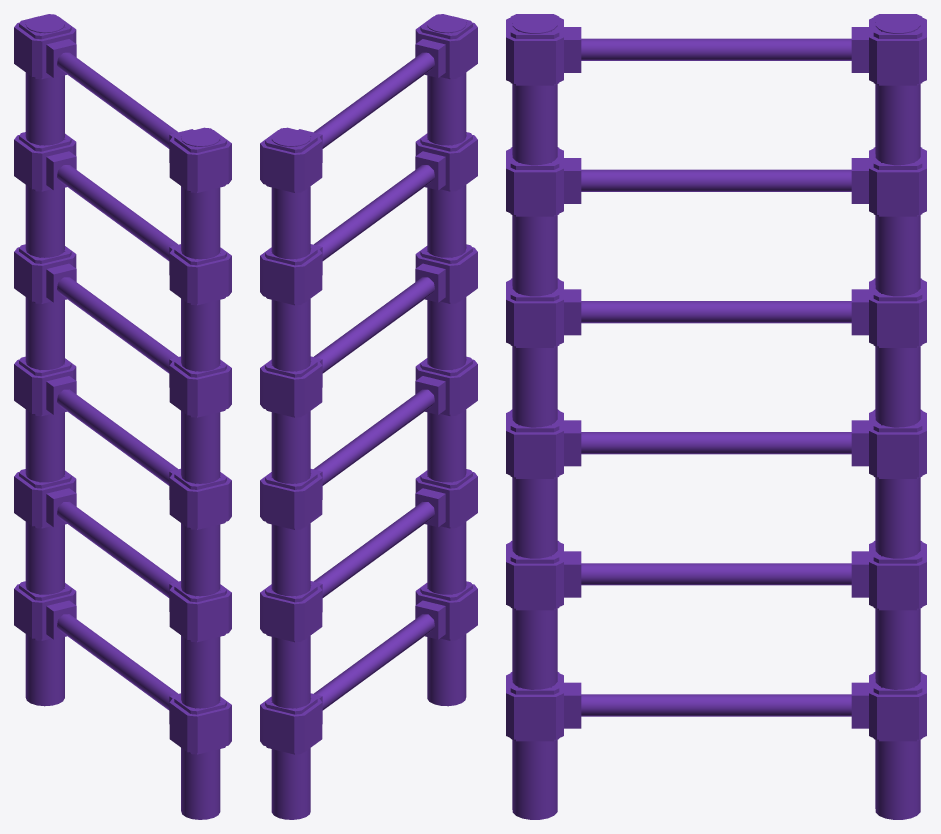
File: Ladder_A_3m.FBX
The picture shows the model from 3 angles, left to right: view 1: azimuth 30°, elevation 25°; view 2: azimuth 150°, elevation 25°; view 3: azimuth 270°, elevation 25°; orthographic projection. The views are drawn at different scales.
Parts seen in each view (by area): view 1: Ladder_A_3m; view 2: Ladder_A_3m; view 3: Ladder_A_3m.
Part boxes in pixels (x1,y1,x2,y2): Ladder_A_3m: [14, 14, 231, 819]; Ladder_A_3m: [260, 14, 477, 819]; Ladder_A_3m: [506, 14, 926, 819].
Bounding box in the file's own units: 20.68 × 300 × 145.
